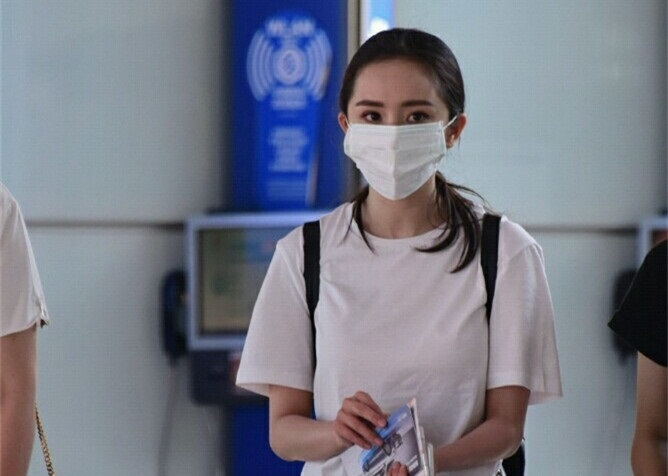face_mask: (345, 60, 448, 197)
